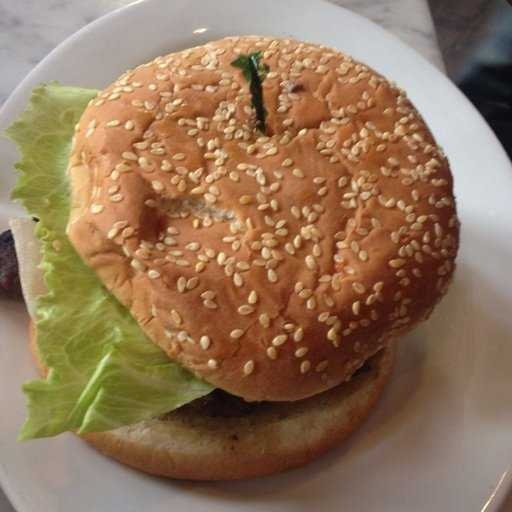hamburger: (27, 28, 468, 473)
